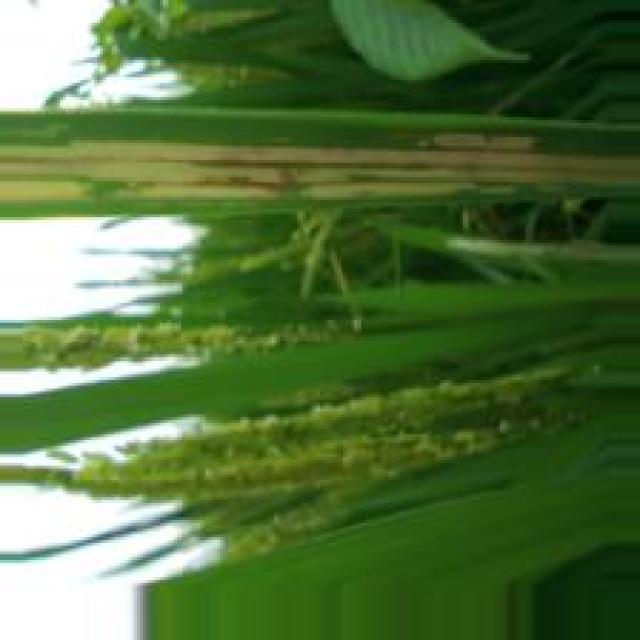Rice_Hispa: (0, 131, 640, 203)
